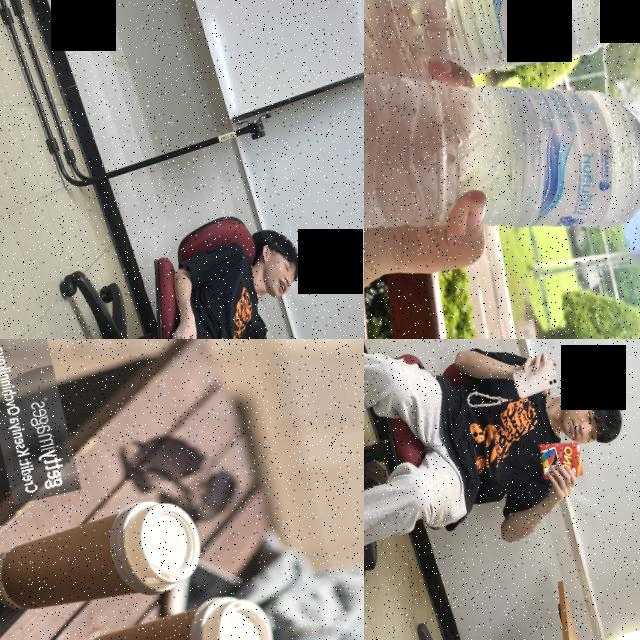bottle: (364, 0, 640, 309), (364, 0, 640, 129)
cup: (0, 487, 213, 633), (58, 583, 284, 640)
